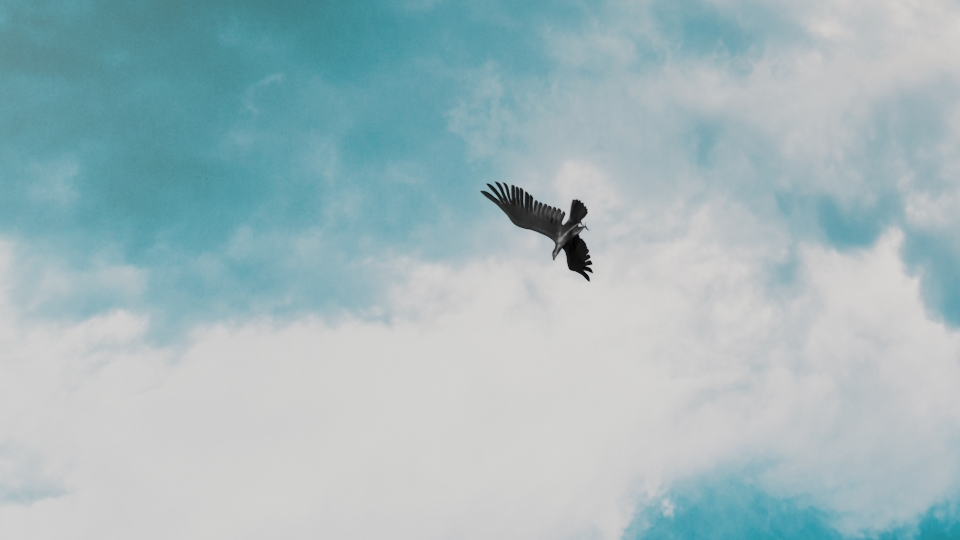bird: (476, 176, 595, 287)
